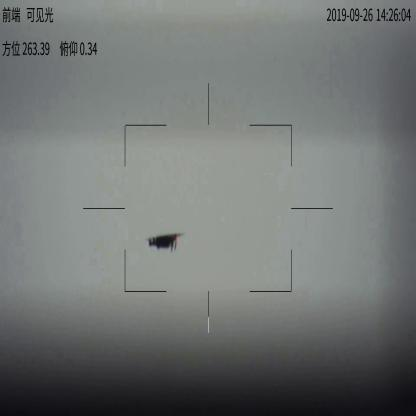uav: (143, 231, 181, 253)
